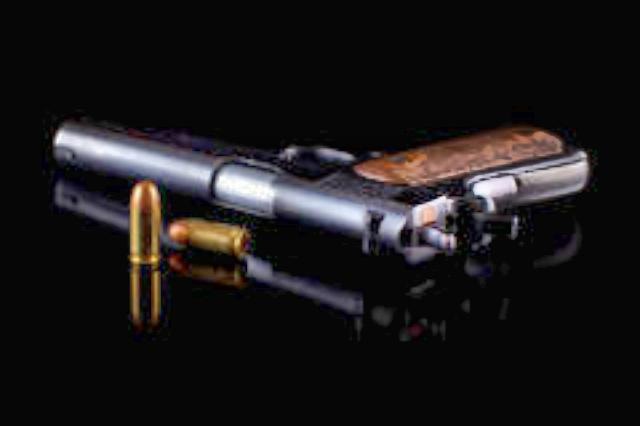pistol: (48, 118, 592, 264)
